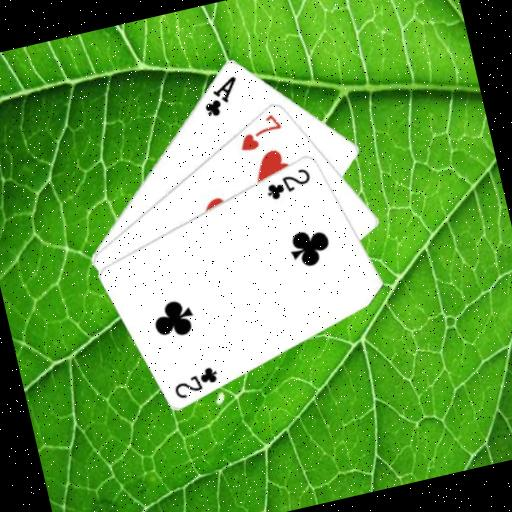2C: (260, 163, 316, 204), (168, 362, 223, 402)
7H: (231, 108, 288, 155)
AC: (195, 72, 246, 121)
